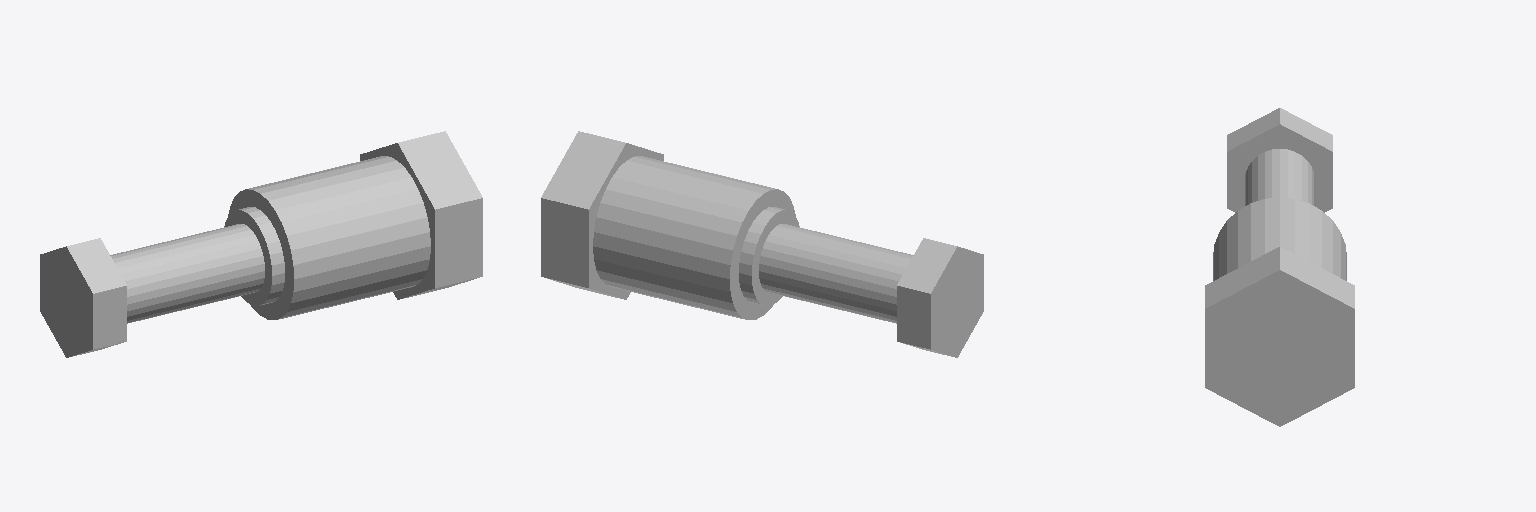
File: HANDLE.obj
3 views of the same model, side by side, from view 1: azimuth 30°, elevation 25°; view 2: azimuth 150°, elevation 25°; view 3: azimuth 270°, elevation 25° (orthographic).
Parts seen in each view (by area): view 1: HANDLE; view 2: HANDLE; view 3: HANDLE.
Part boxes in pixels (left/top/right/bottom): HANDLE: left=40, top=131, right=482, bottom=357; HANDLE: left=541, top=131, right=983, bottom=357; HANDLE: left=1205, top=108, right=1354, bottom=426.
Size of the model in its own units: 5.04 by 2 by 1.73.